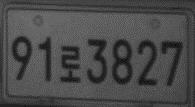1: (36, 35, 53, 82)
2: (136, 39, 159, 86)
3: (85, 37, 108, 85)
7: (160, 39, 184, 89)
8: (110, 38, 134, 84)
9: (10, 35, 32, 81)
로: (59, 44, 82, 84)
